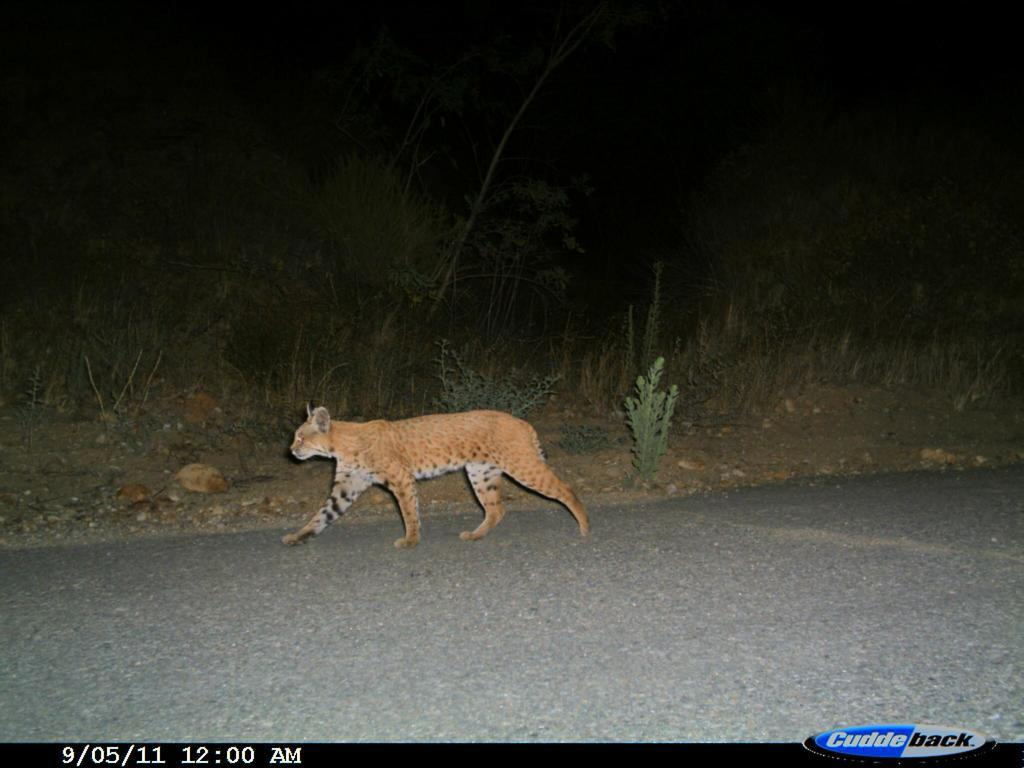bobcat: (280, 397, 597, 555)
